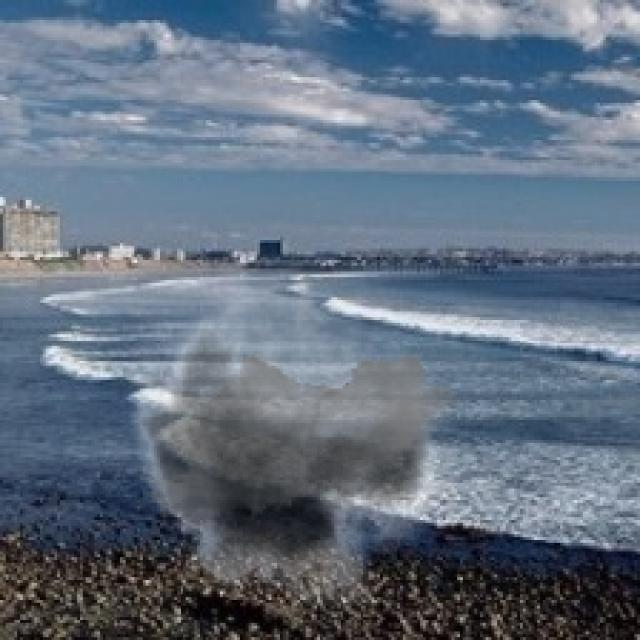Smoke: (111, 257, 460, 626)
